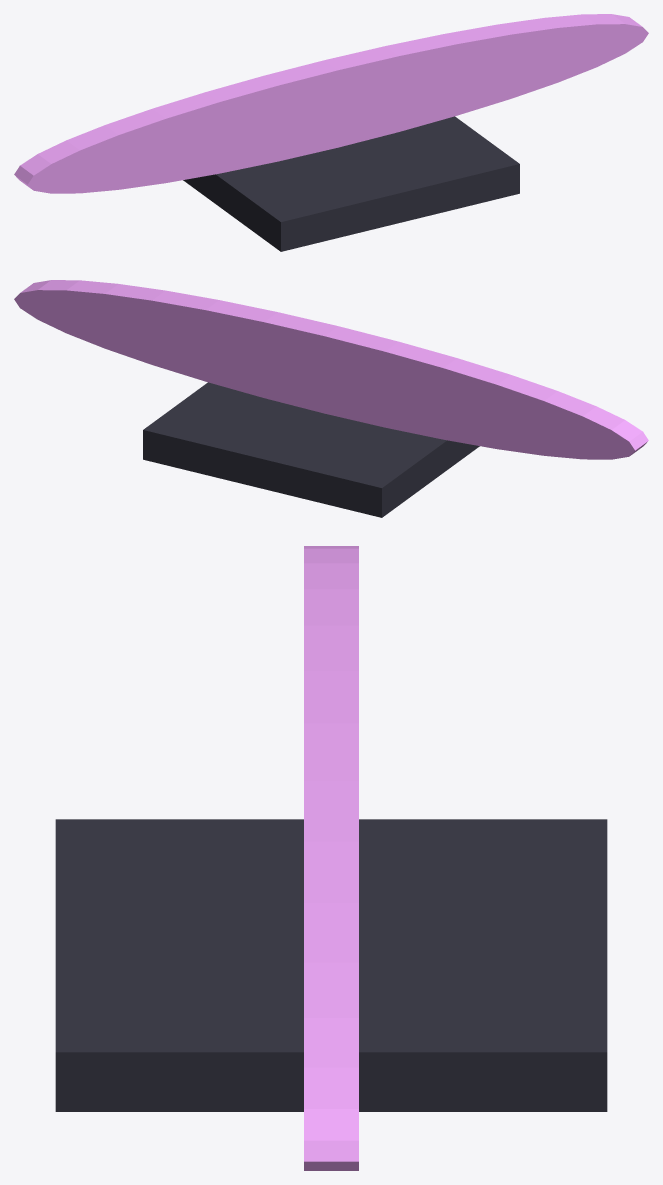
File: CH_Barracks.fbx
3 renders of one model, top to bottom at view 1: azimuth 30°, elevation 25°; view 2: azimuth 150°, elevation 25°; view 3: azimuth 270°, elevation 25°, orthographic. The views are drawn at different scales.
Visible parts, largest first — view 1: Cylinder, Cube; view 2: Cylinder, Cube; view 3: Cube, Cylinder.
Part boxes in pixels (x1,y1,x2,y2): Cylinder: (14, 14, 648, 193); Cube: (183, 116, 519, 251); Cylinder: (14, 280, 648, 459); Cube: (143, 382, 479, 517); Cube: (55, 819, 607, 1111); Cylinder: (304, 546, 358, 1170).
Size of the model in its own units: 1092 by 180 by 420.
